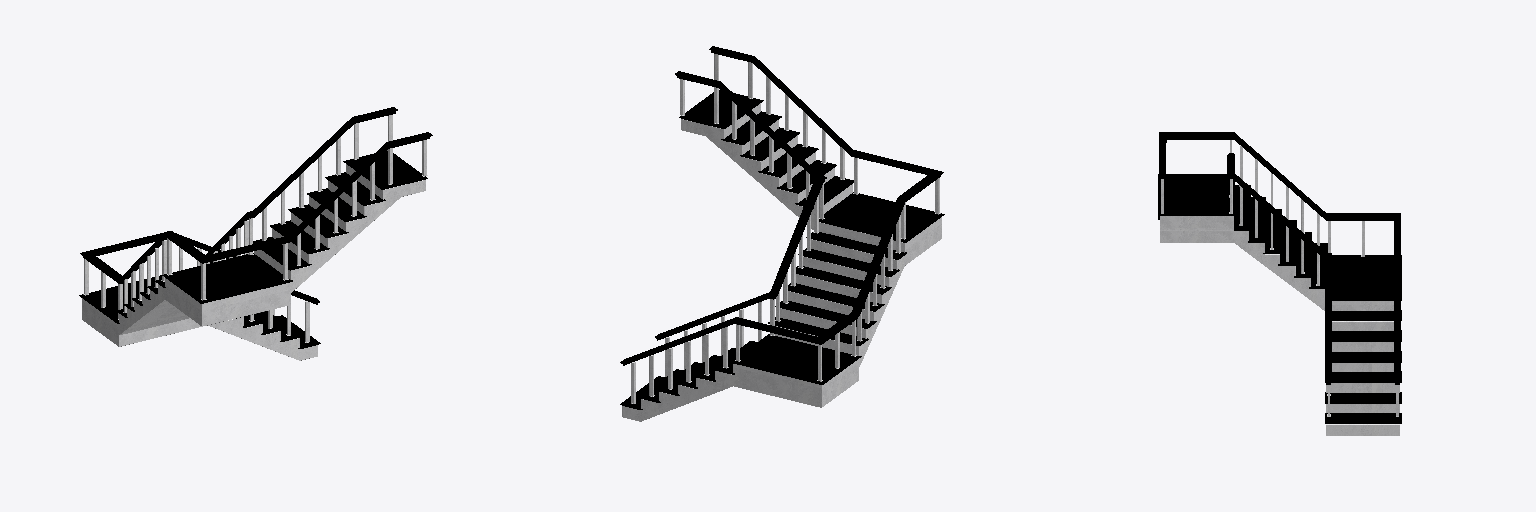
3 views of the same model, side by side, from view 1: azimuth 30°, elevation 25°; view 2: azimuth 150°, elevation 25°; view 3: azimuth 270°, elevation 25° (orthographic).
Parts seen in each view (by area): view 1: polySurface129; view 2: polySurface129; view 3: polySurface129.
Boxes of the visible parts, <box> form: polySurface129: <box>79,107,432,360</box>; polySurface129: <box>620,46,944,421</box>; polySurface129: <box>1158,132,1401,435</box>.
Size of the model in its own units: 18.78 by 21.39 by 17.06.
Materials: 4 (1 with a texture image).